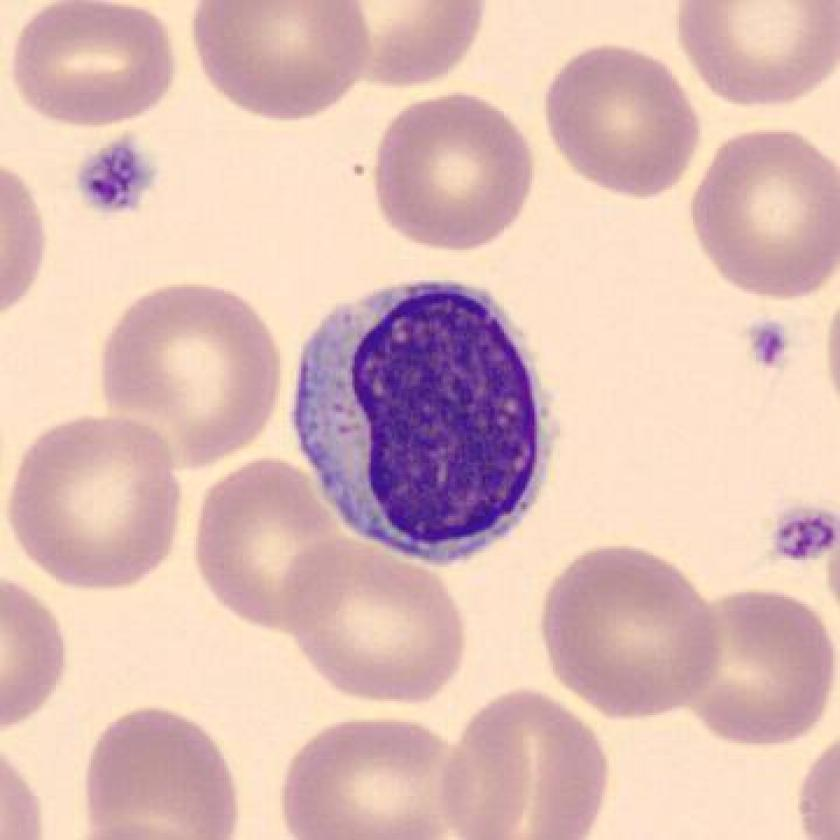lymphocyte: (277, 265, 564, 577)
